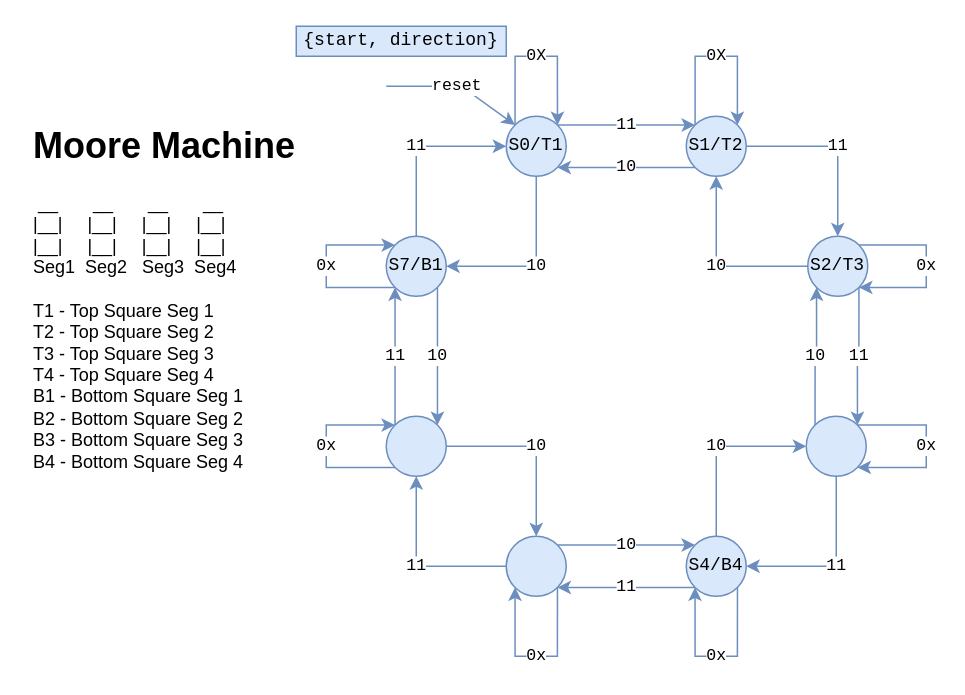
Image size: 965x695. Some labels were removed from this diagram. The centre of each missing label's shape, as x and y in pixels:
"S3/T4" goes at [835,445].
"S5/B3" goes at [535,565].
"S6/B2" goes at [415,445].
